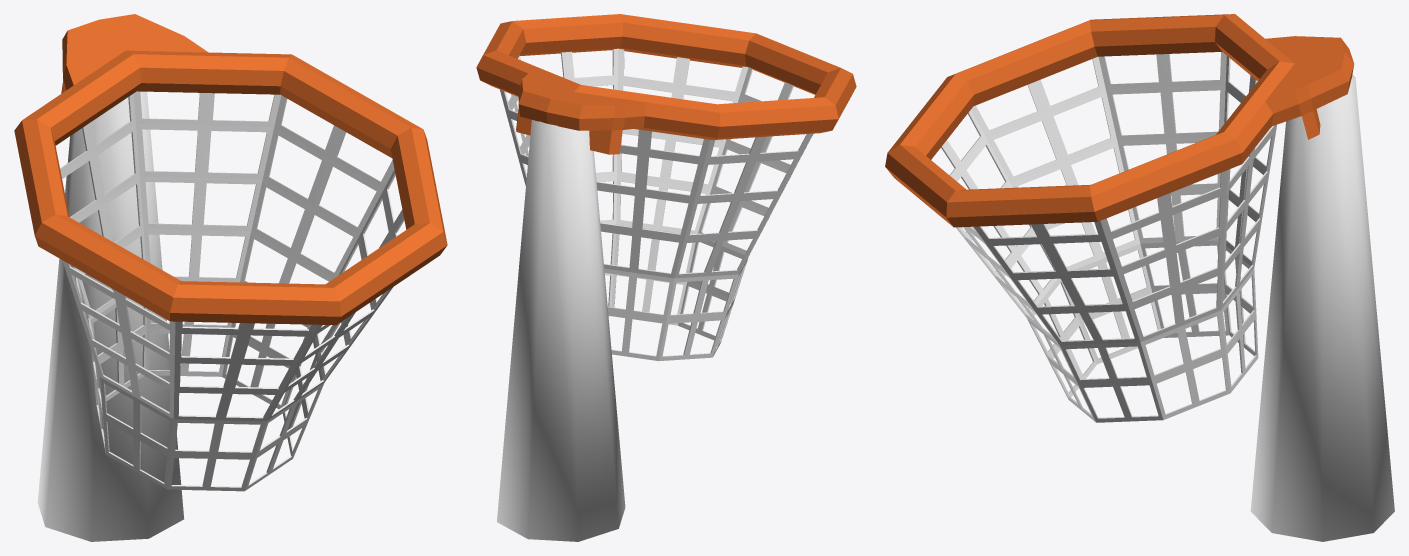
Rendered from Basket_ring.fbx.
3 views of the same model, side by side, from view 1: azimuth 30°, elevation 25°; view 2: azimuth 150°, elevation 25°; view 3: azimuth 270°, elevation 25° (orthographic). The views are drawn at different scales.
Parts seen in each view (by area): view 1: Ring.002, Cylinder; view 2: Ring.002, Cylinder; view 3: Ring.002, Cylinder.
Part boxes in pixels (<box>): Ring.002: <box>14,14,447,491</box>; Cylinder: <box>37,91,184,541</box>; Ring.002: <box>476,14,856,360</box>; Cylinder: <box>497,120,625,541</box>; Ring.002: <box>885,14,1354,422</box>; Cylinder: <box>1250,74,1394,541</box>.
Bounding box in the file's own units: 3.44 × 4.04 × 4.07.
